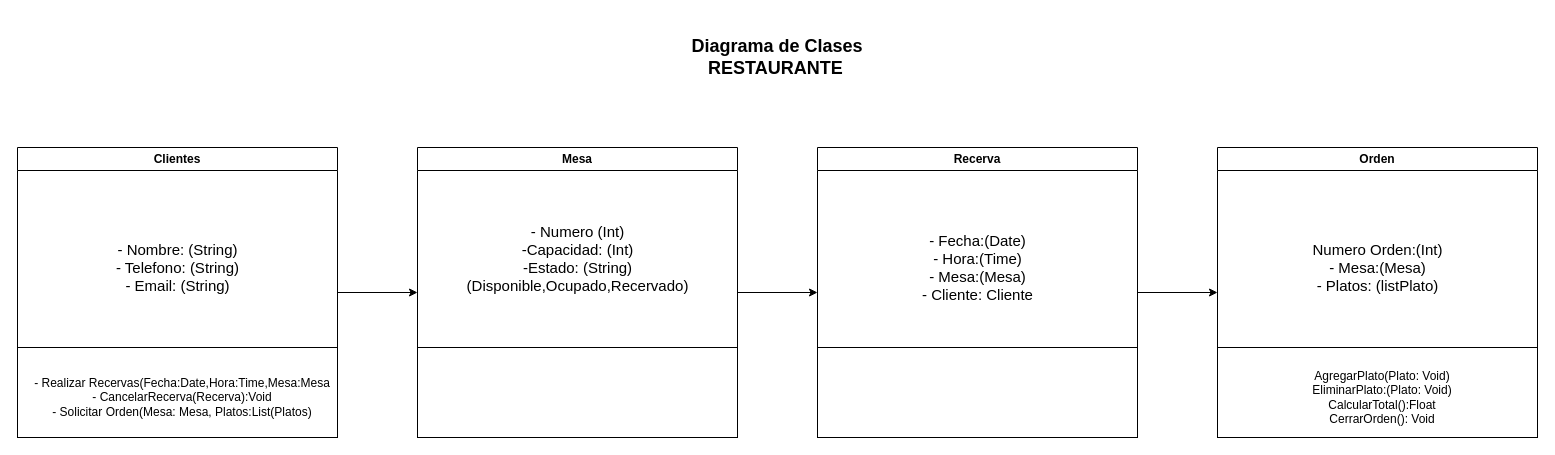
Some shapes in this 1555 by 455 pixel diagram are drawn without their labels. Here are the shapes that lost their labels. From the top down, the centre of each, then its label:
At pixel 577 392: "-RecervaMesa(Cliente:Cliente , Fecha:Date , Hora:Time) LiberarMesa(): Void".
At pixel 977 392: "- ConfirmacionRecerva(): Void CancelarRecerva(): Void".
